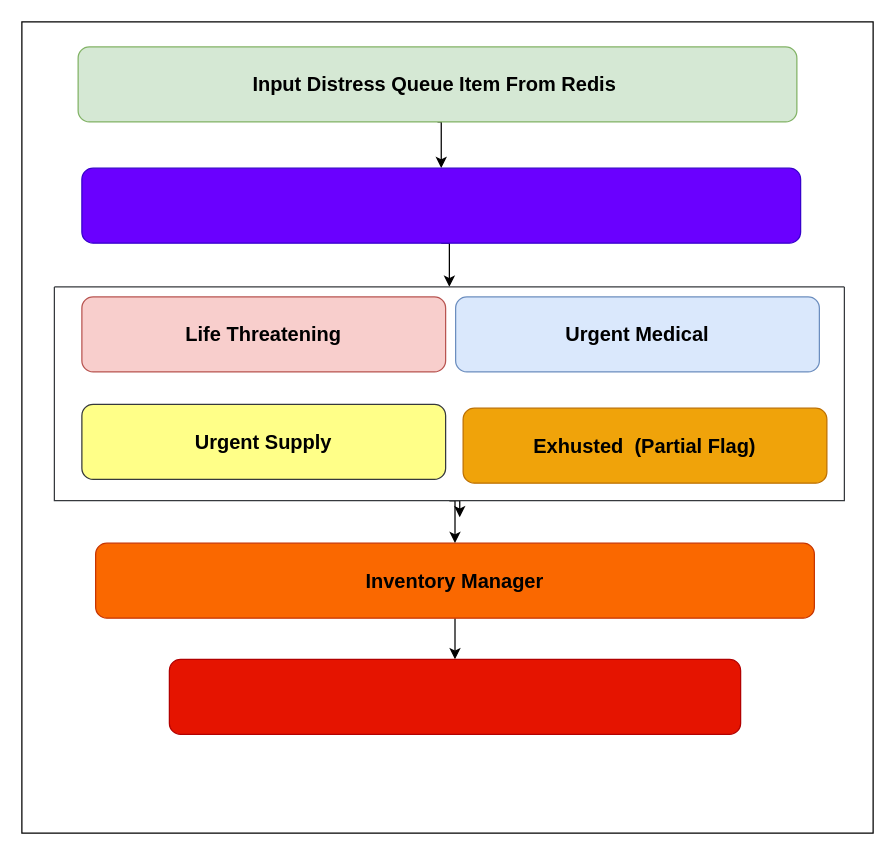
The diagram is 895 pixels wide and 855 high, and some of its shapes have lost their labels. Each missing label, with the centre of its shape:
"A* Distance Scorer" goes at (x=441, y=205).
"Redis. Agent Allocation Channel" goes at (x=454, y=696).
